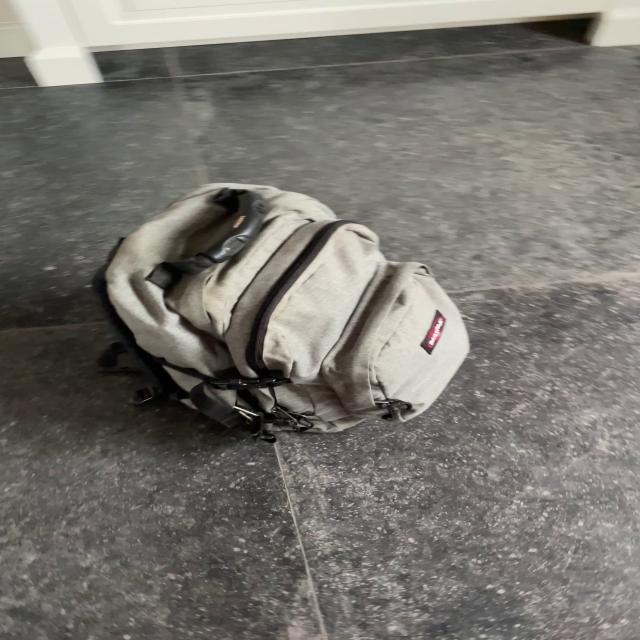backpack: (73, 176, 483, 440)
